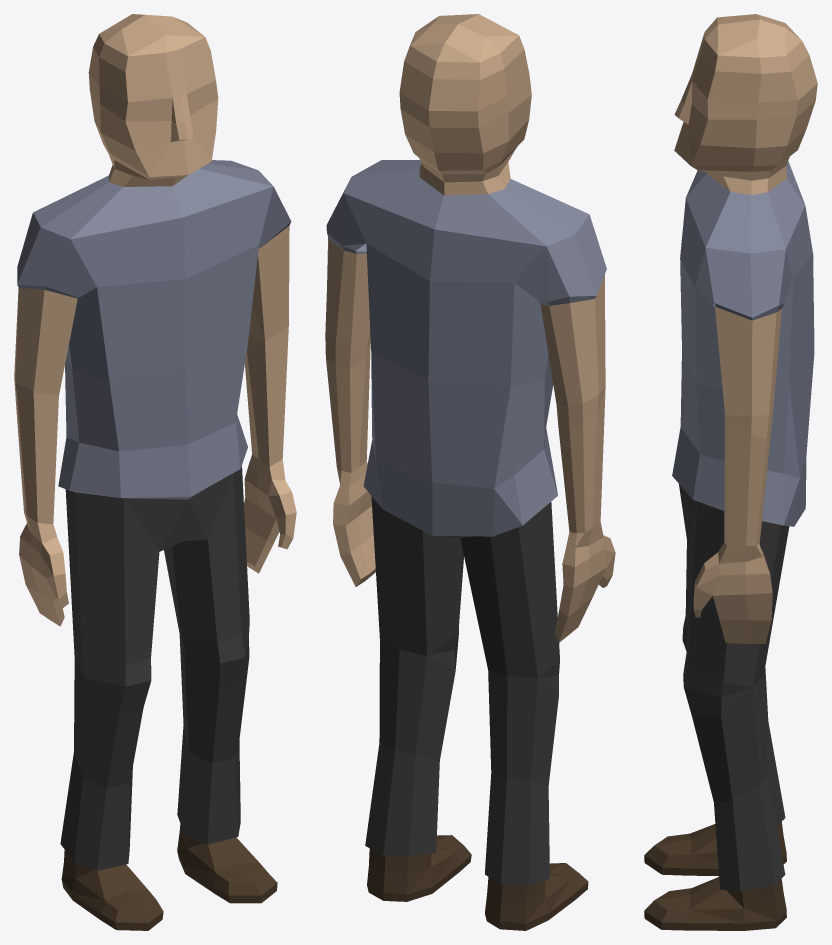
The model's file is Male_Standing.glb.
3 views of the same model, side by side, from view 1: azimuth 30°, elevation 25°; view 2: azimuth 150°, elevation 25°; view 3: azimuth 270°, elevation 25° (orthographic). The views are drawn at different scales.
Parts seen in each view (by area): view 1: Male_Standing; view 2: Male_Standing; view 3: Male_Standing.
Part boxes in pixels (x1,y1,x2,y2): Male_Standing: (14,14,296,930); Male_Standing: (325,14,615,930); Male_Standing: (644,14,817,930).
Size of the model in its own units: 1.24 by 3.83 by 0.6923.
